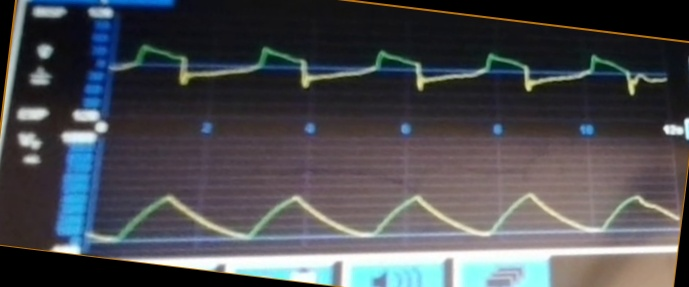Premature_cycling Flow: (116, 42, 666, 115)
Premature_cycling Volume: (97, 181, 678, 243)
